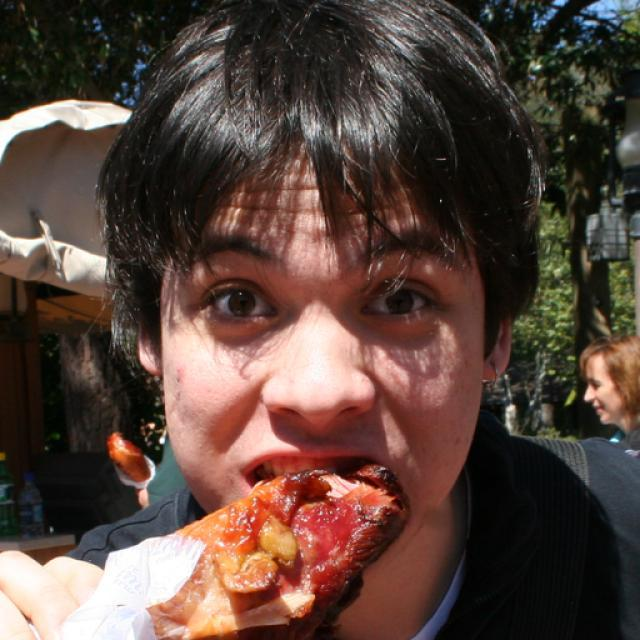surprise: (161, 130, 484, 595)
